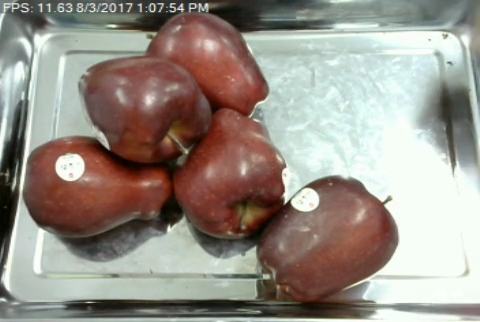Apple: (251, 171, 402, 304), (20, 131, 174, 243), (170, 104, 291, 242), (75, 54, 216, 167), (142, 7, 270, 119)
